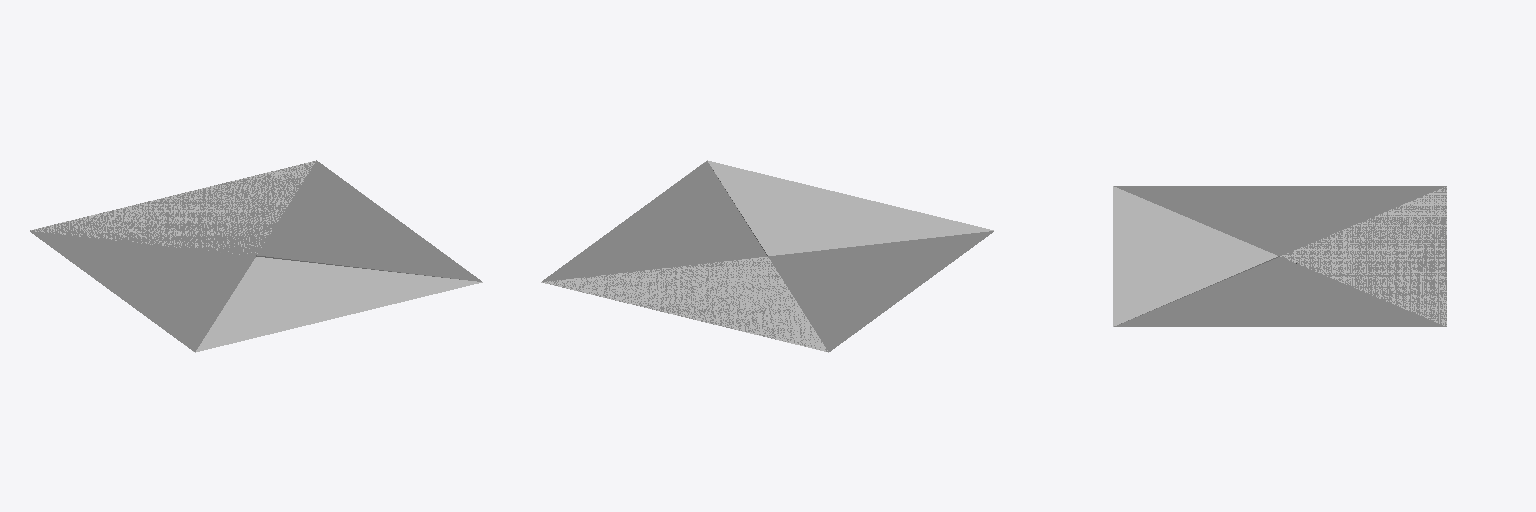
The model's file is frame9.obj.
3 renders of one model, left to right at view 1: azimuth 30°, elevation 25°; view 2: azimuth 150°, elevation 25°; view 3: azimuth 270°, elevation 25°, orthographic.
Parts seen in each view (by area): view 1: Cube, ground; view 2: Cube, ground; view 3: Cube, ground.
Part boxes in pixels (x1,y1,x2,y2): Cube: (30,160,481,351); ground: (31,161,482,352); Cube: (542,161,993,351); ground: (541,160,993,352); Cube: (1114,186,1446,326); ground: (1113,186,1446,326).
Bounding box in the file's own units: 2000 × 7 × 2000.